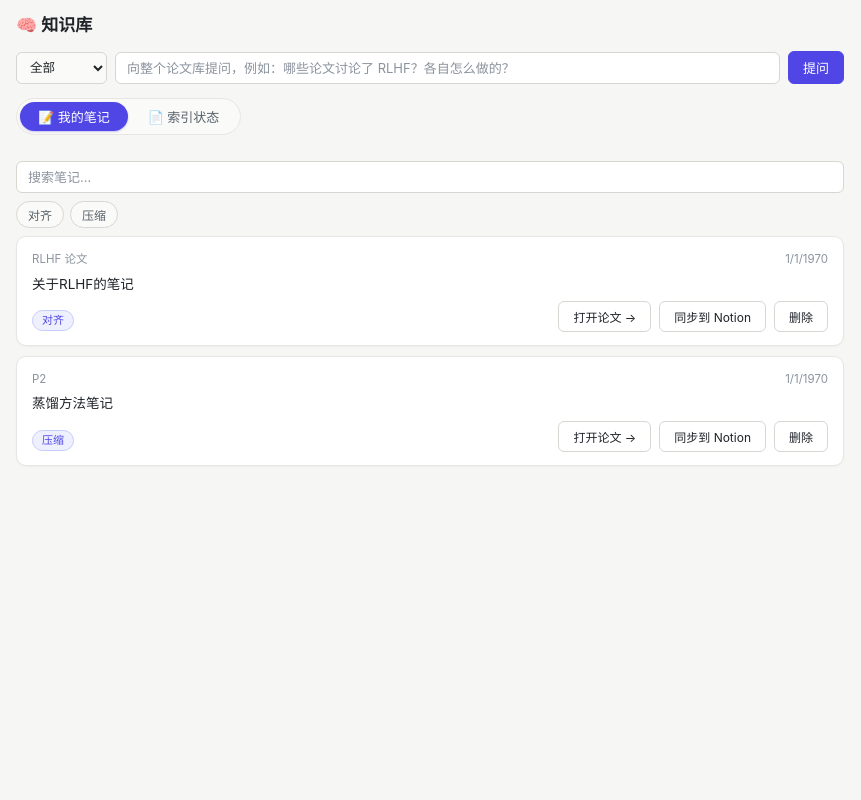
Test: KnowledgeView › passes the selected collection scope and renders followup chips that re-ask within scope
This screenshot has width=861, height=800.
Select "对齐研究" in the dropdown titled "限定问答检索范围". click: (62, 68)
box: [16, 52, 107, 84]
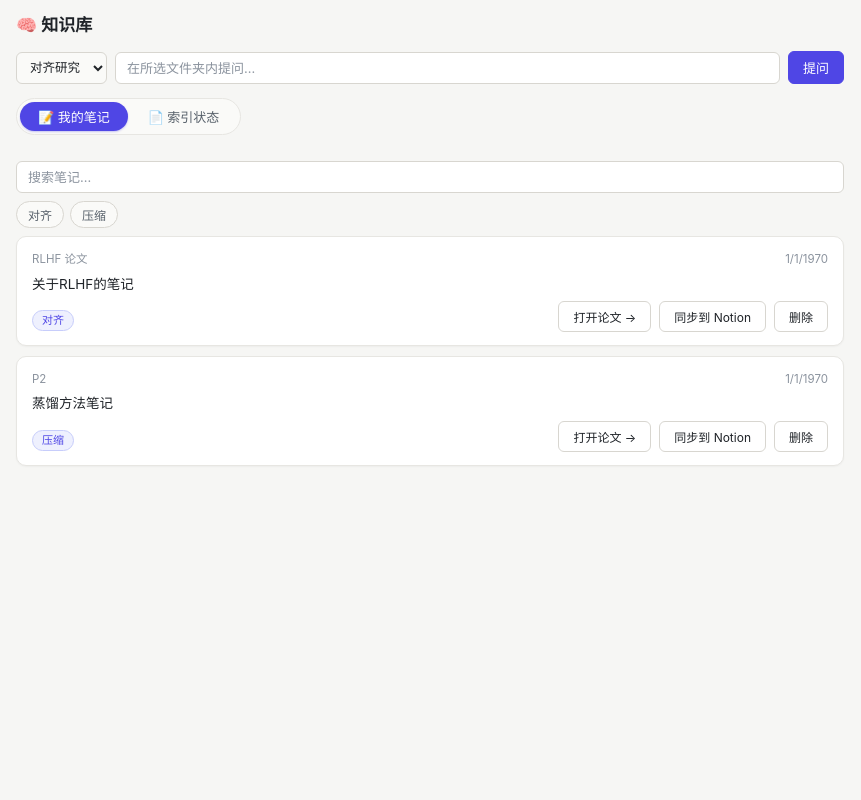
Note: 选范围后占位符变化，用新占位符定位输入框
Type "RLHF 是什么" into the field with placeholder "在所选文件夹内提问…". click: (448, 68)
box: [115, 52, 780, 84]
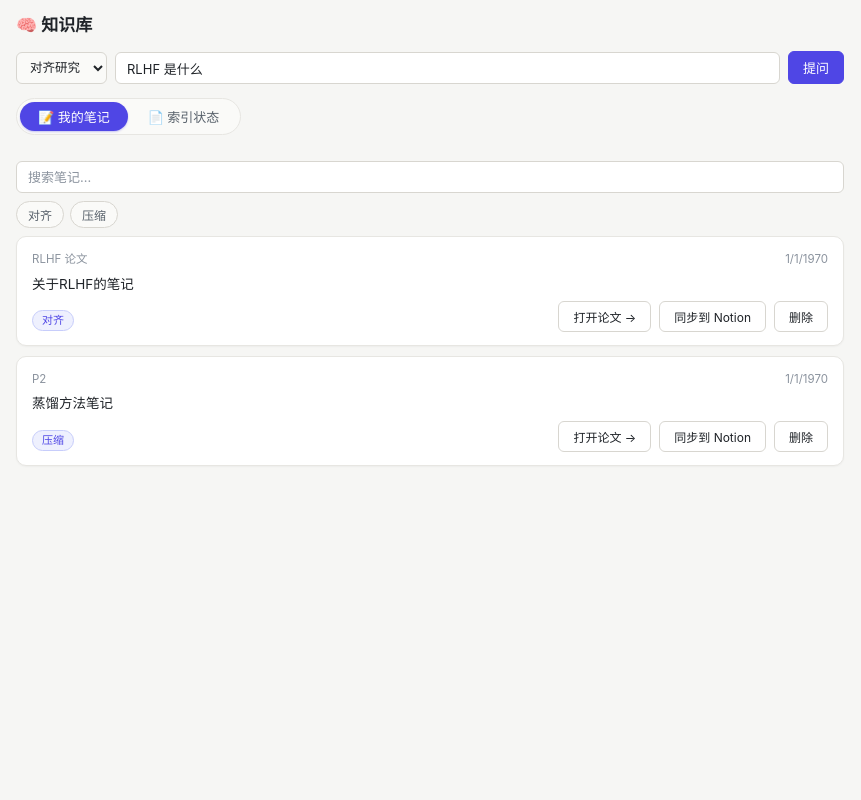
Click the button "提问". click: (816, 68)
box: [788, 51, 844, 84]
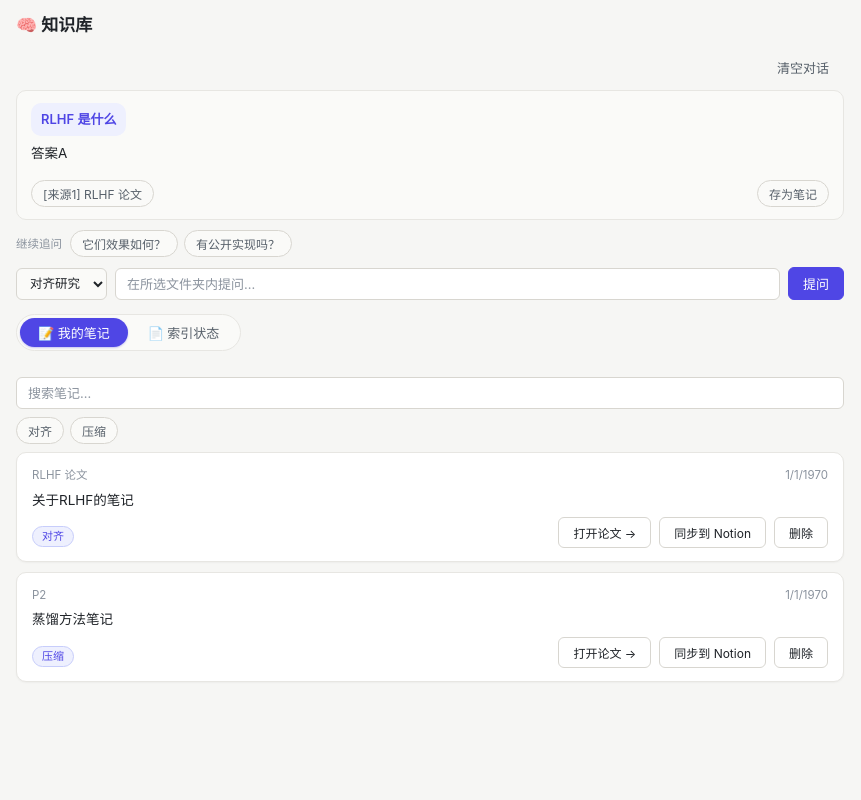
Note: 追问 chip 出现，点击触发第二次提问，且范围仍为 C1
Click the button "它们效果如何？". click: (124, 244)
box: [70, 230, 178, 257]
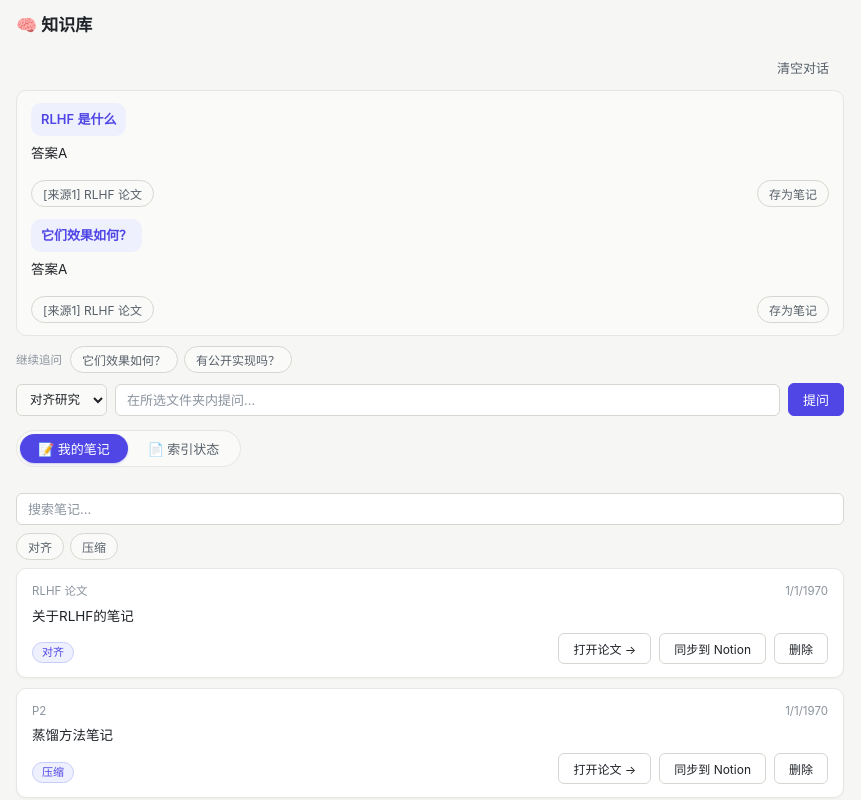
expect the text "它们效果如何？" is shown: met, box [31, 219, 142, 252]
